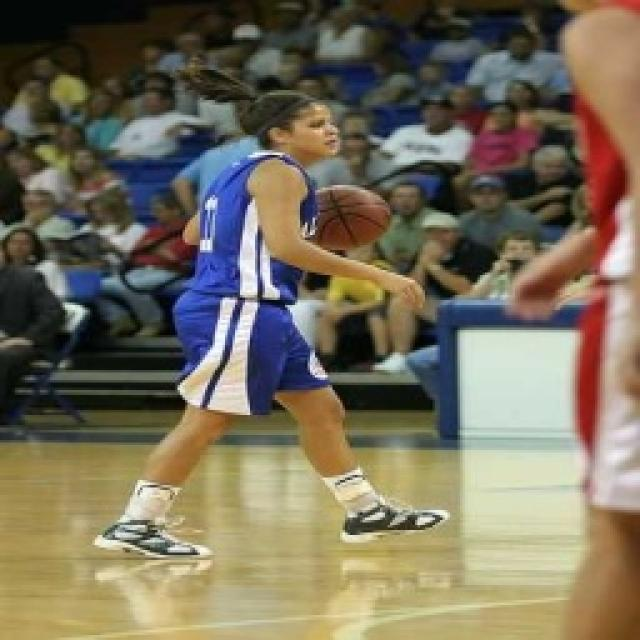rim: (295, 174, 403, 262)
